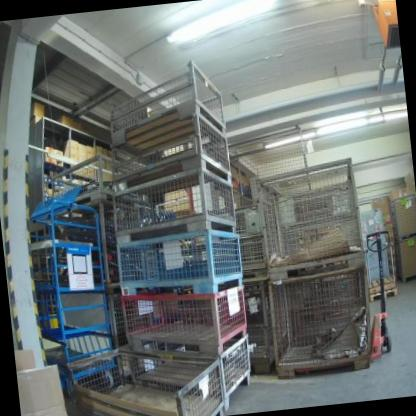pallet: (383, 223, 399, 282), (368, 287, 398, 303)
pallet_truck: (355, 228, 403, 363)
stillage: (252, 154, 371, 274), (268, 265, 381, 385), (68, 334, 227, 416), (118, 328, 262, 416), (98, 49, 231, 140), (103, 160, 241, 241), (102, 105, 236, 186), (112, 219, 247, 294), (119, 274, 254, 348), (31, 194, 126, 299), (239, 271, 280, 375), (101, 289, 171, 345), (40, 156, 115, 207), (387, 193, 416, 240), (395, 239, 416, 283)
